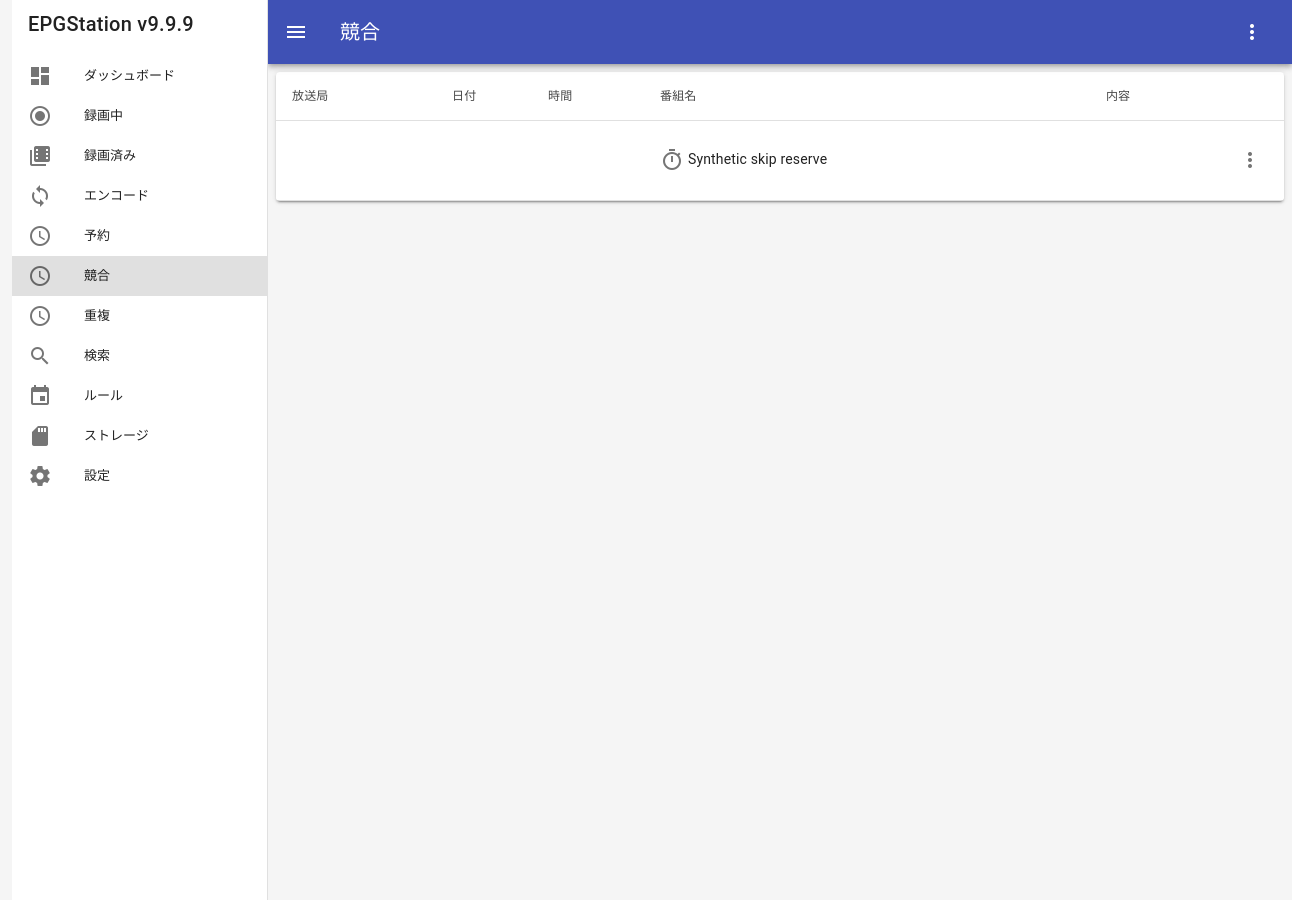
Scenario: Reserves delete, unlock and update actions › [AC 2.15] [AC 2.17] unlocks skip reserves through API and snackbar without optimistic removal or direct refetch
Expected: the text "Synthetic skip reserve" is shown, [276,120,1284,200]
Step 1. Click the button named "予約メニュー: Synthetic skip reserve" → [1250, 160], box [1232,142,1268,178]
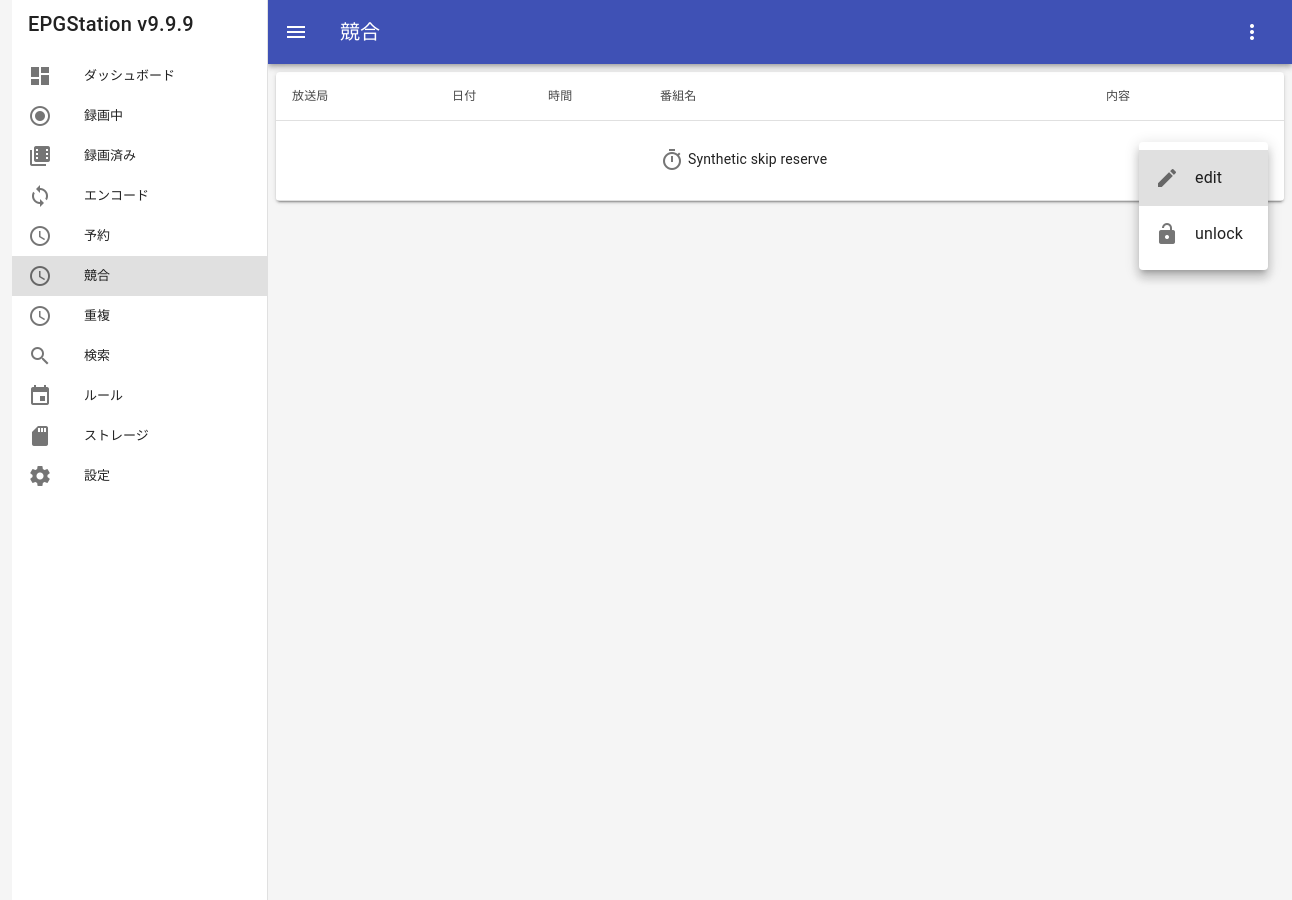
Step 2. Click the menu item "unlock" → [1199, 234], box [1155,222,1243,246]
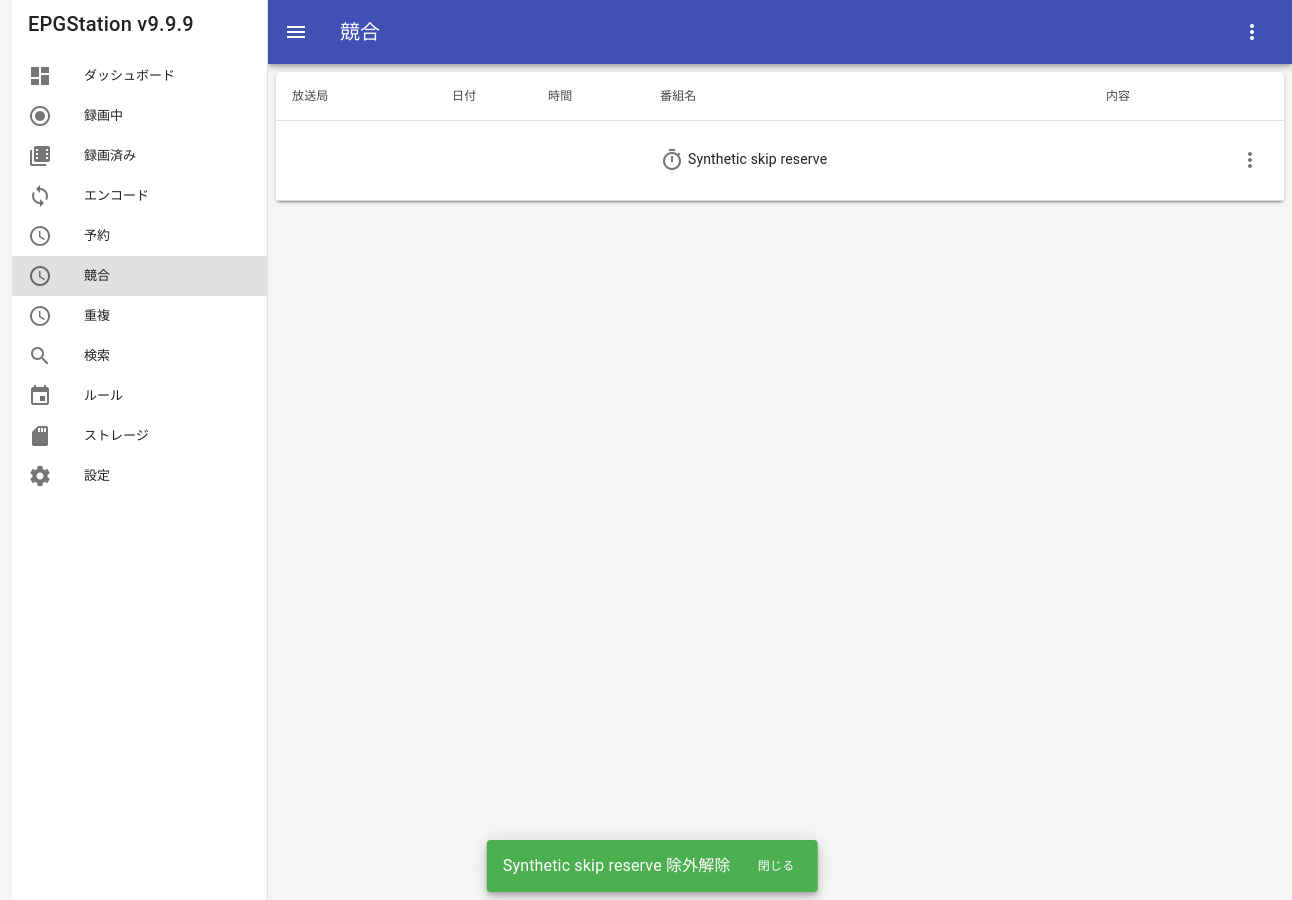
Expected: the text "Synthetic skip reserve" is shown, [276,120,1284,200]
Expected: the message shows "Synthetic skip reserve 除外解除", [503,856,731,875]
